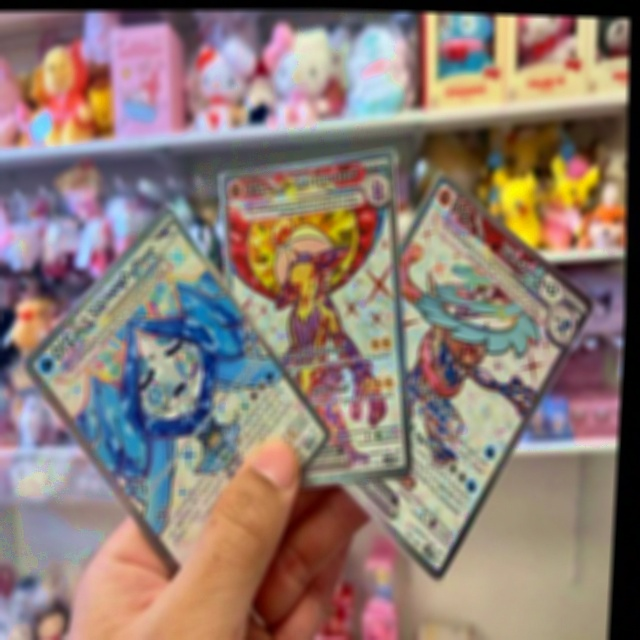card: (27, 204, 334, 574), (343, 169, 597, 577), (222, 148, 417, 487)
